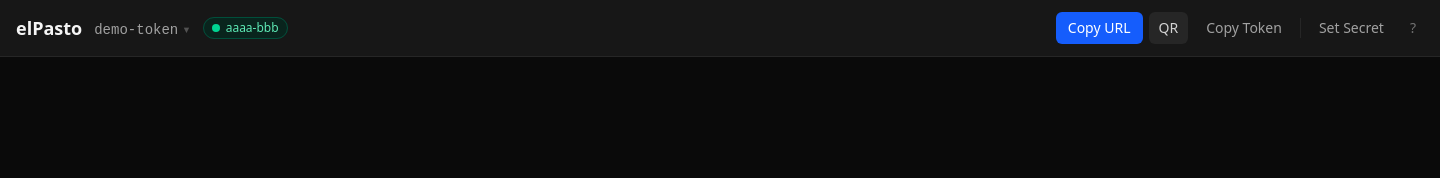
Scenario: SessionHeader › shows peer list with connection status on click
This screenshot has width=1440, height=178.
Click the button with aria-label "Connection status" at (245, 28), box top-left (203, 17), bottom-right (288, 39)
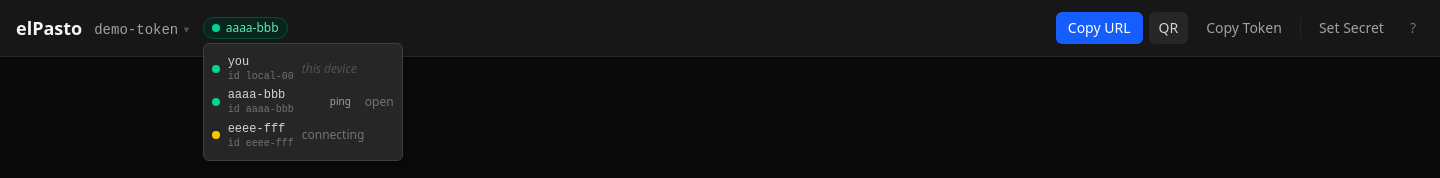
Expected: the text "id aaaa-bbb" is shown, top-left (228, 103), bottom-right (294, 117)
Expected: the text "open" is shown, top-left (365, 94), bottom-right (394, 110)
Expected: the text "eeee-fff" is shown, top-left (228, 121), bottom-right (294, 137)
